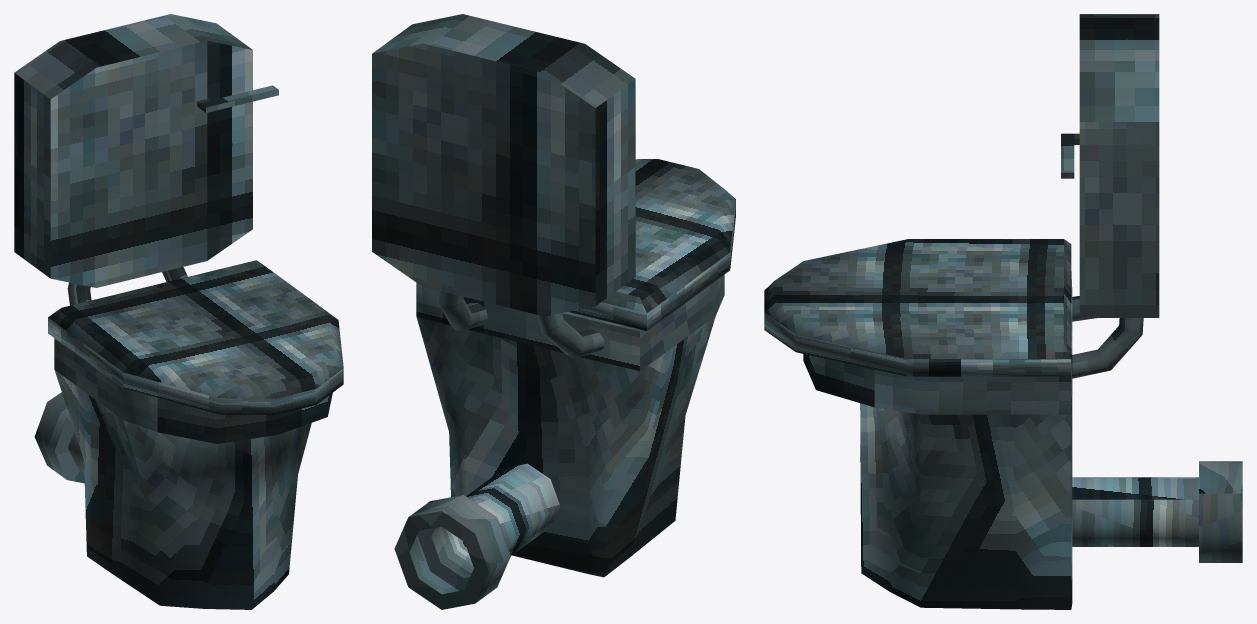
The model's file is ToiletTest.FBX.
3 renders of one model, left to right at view 1: azimuth 30°, elevation 25°; view 2: azimuth 150°, elevation 25°; view 3: azimuth 270°, elevation 25°, orthographic. The views are drawn at different scales.
Visible parts, largest first — view 1: Toilet, ToiletSeat; view 2: Toilet, ToiletSeat; view 3: Toilet, ToiletSeat.
Boxes of the visible parts, left/top/right/bottom form: Toilet: left=14, top=14, right=332, bottom=609; ToiletSeat: left=48, top=260, right=343, bottom=414; Toilet: left=372, top=14, right=724, bottom=609; ToiletSeat: left=569, top=159, right=735, bottom=330; Toilet: left=803, top=14, right=1242, bottom=609; ToiletSeat: left=764, top=239, right=1071, bottom=376.
Bounding box in the file's own units: 1.08 × 1.8 × 2.2.
Materials: 1 (1 with a texture image).
